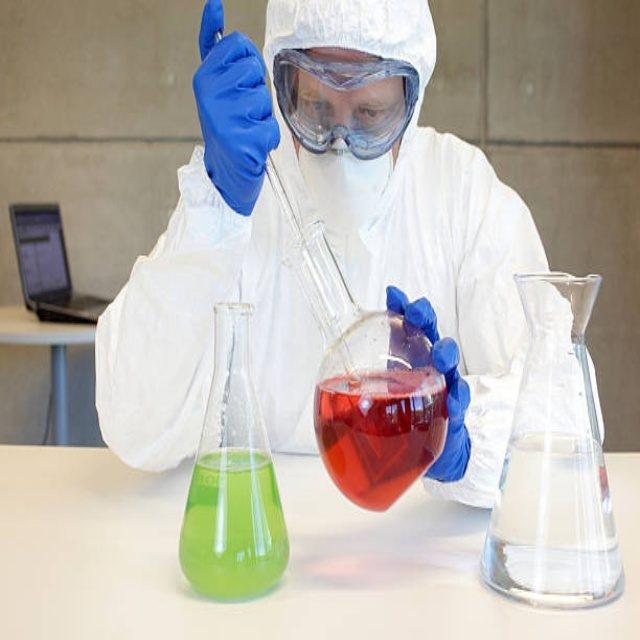Gafas: (271, 47, 420, 160)
Guantes: (192, 3, 279, 220), (387, 284, 472, 483)
Mascara: (294, 127, 400, 243)
